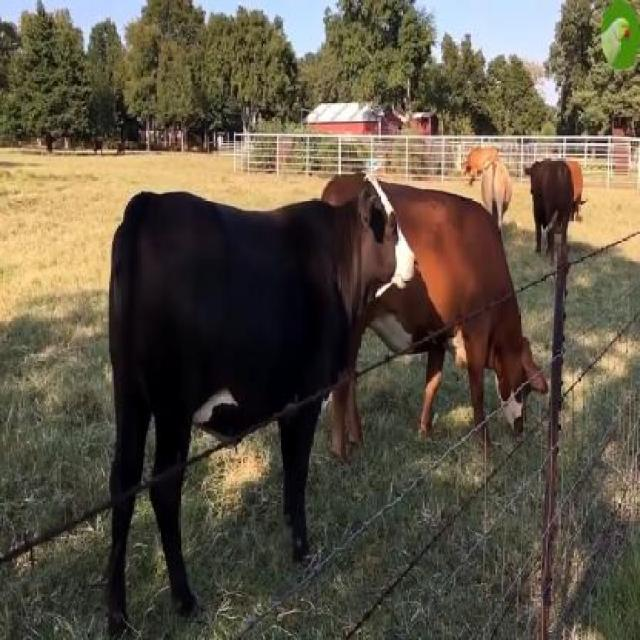Cow: (109, 171, 417, 635)
